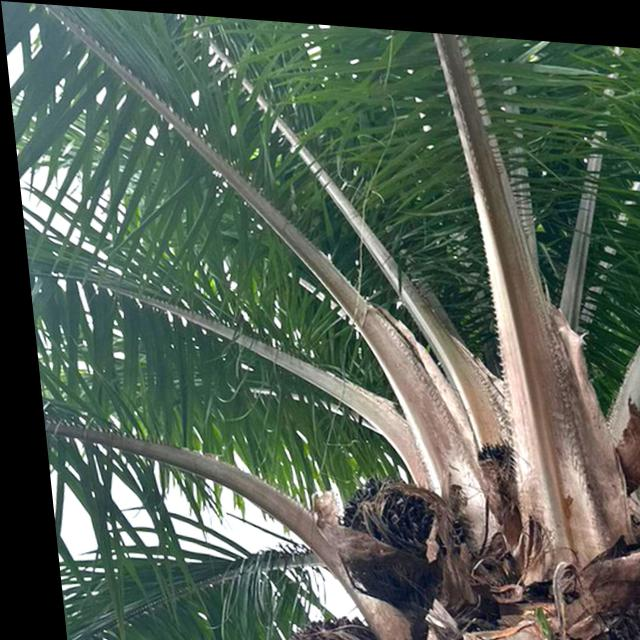unripe: (317, 465, 462, 607)
